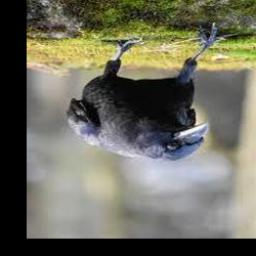Crow: (66, 23, 233, 161)
